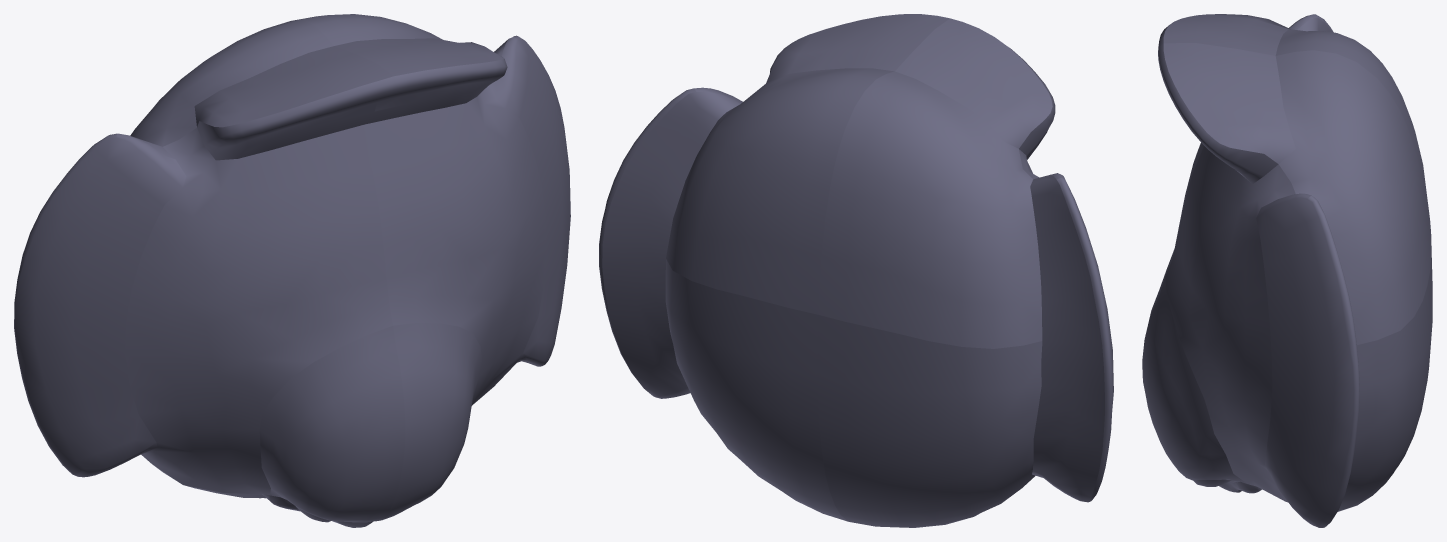
Rendered from sparrow.glb.
The picture shows the model from 3 angles, left to right: view 1: azimuth 30°, elevation 25°; view 2: azimuth 150°, elevation 25°; view 3: azimuth 270°, elevation 25°; orthographic projection. The views are drawn at different scales.
Parts seen in each view (by area): view 1: RetopoFlow; view 2: RetopoFlow; view 3: RetopoFlow.
Part boxes in pixels (left/top/right/bottom): RetopoFlow: left=14, top=14, right=570, bottom=527; RetopoFlow: left=599, top=14, right=1113, bottom=527; RetopoFlow: left=1142, top=14, right=1432, bottom=527.
Size of the model in its own units: 0.5968 by 0.4927 by 0.2896.
